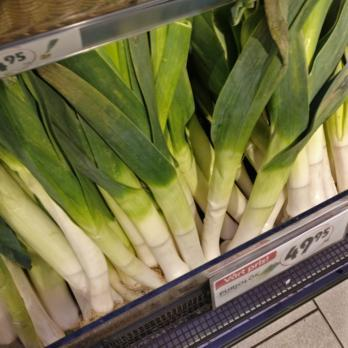Leek Leaves: (110, 39, 339, 200), (0, 70, 145, 305)
